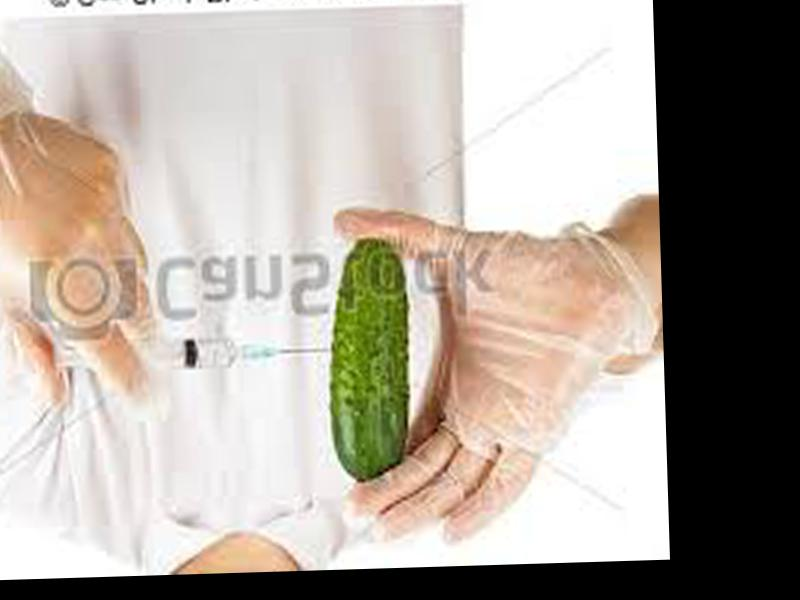Cucumber: (328, 239, 416, 489)
